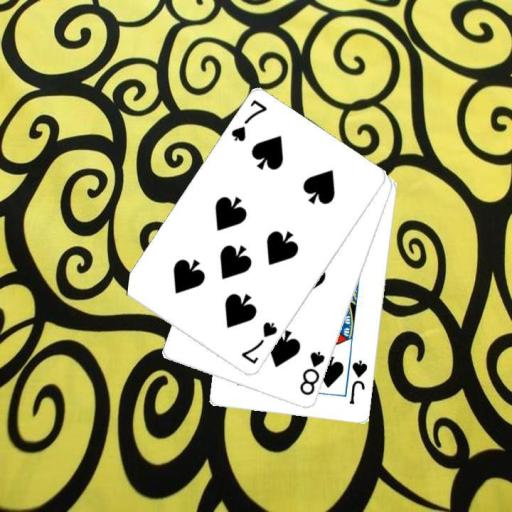7S: (239, 319, 280, 366), (228, 97, 269, 144)
8S: (297, 348, 327, 398)
JS: (346, 357, 370, 406)
